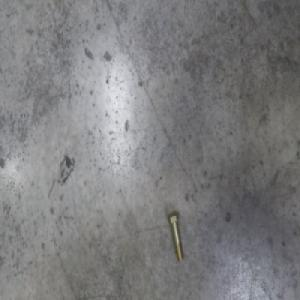Bolt: (165, 210, 183, 263)
